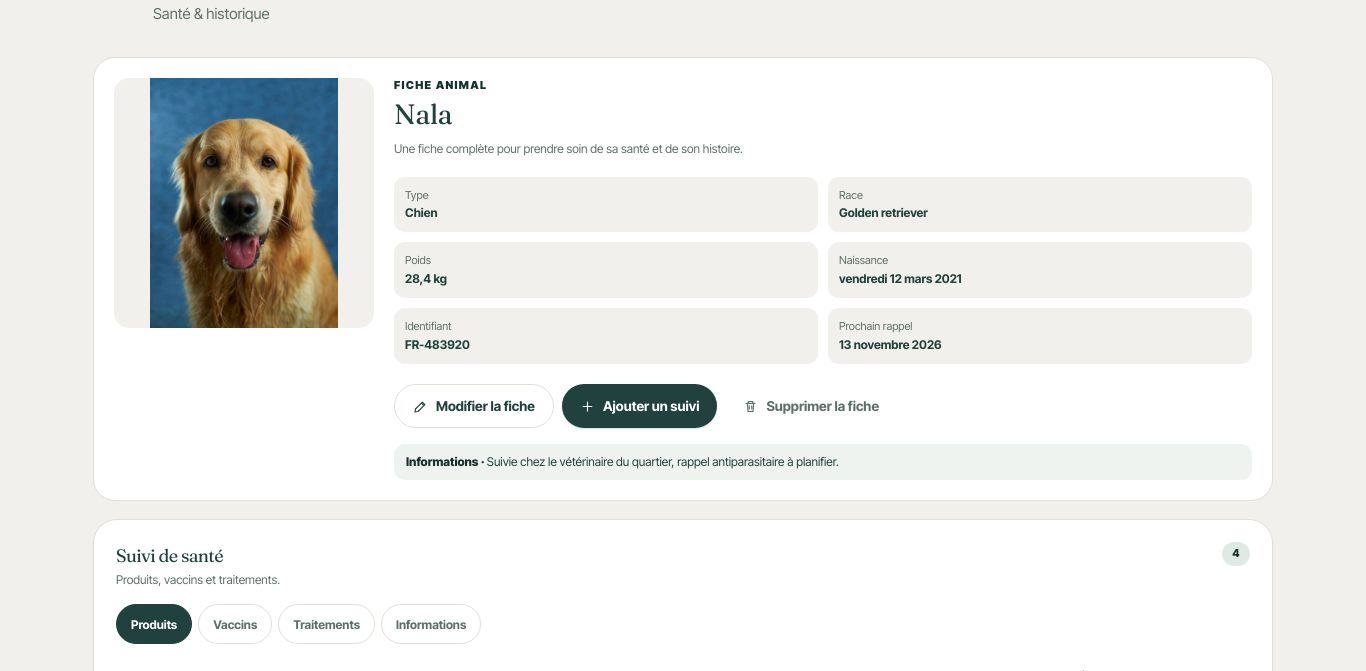
Test case: AnimauxPage › ajoute un suivi via le dialogue et le retrouve dans le carnet de santé
The width and height of the screenshot is (1366, 671).
Click the button "Ajouter un suivi": (640, 406) [562,384,718,428]
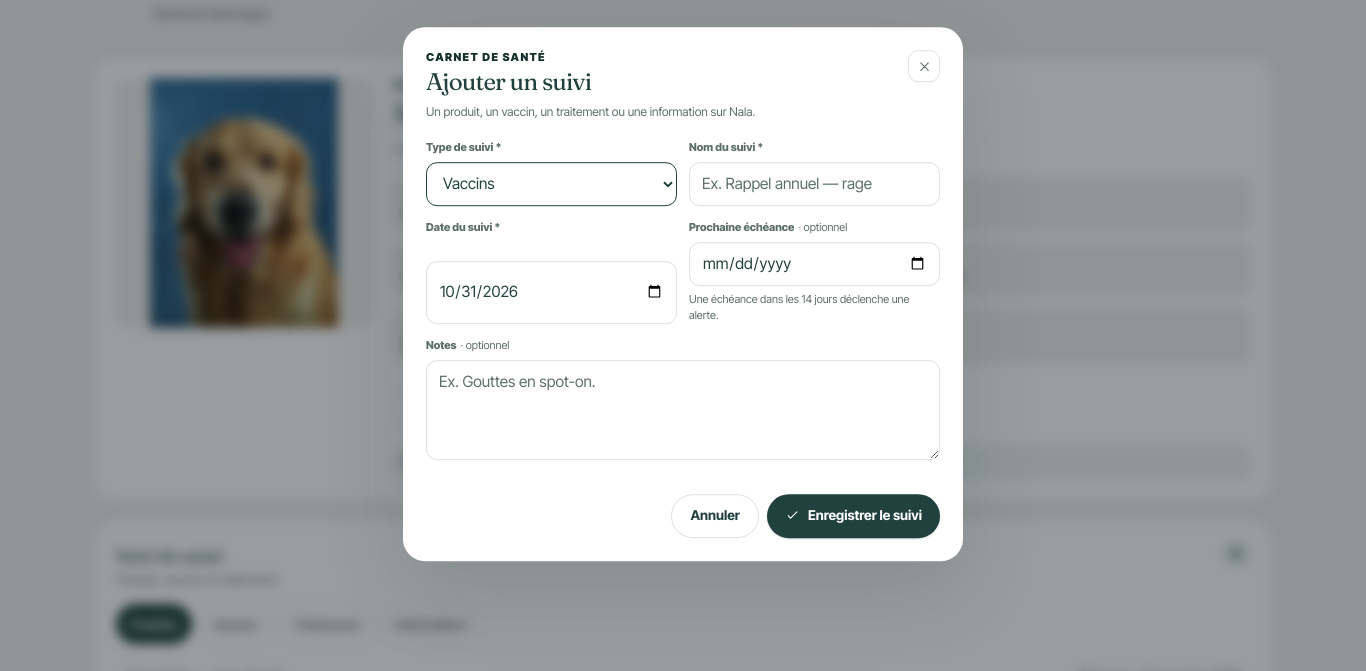
Select "Traitements" in the dropdown labelled "Type de suivi *": (552, 184) [426,162,677,206]
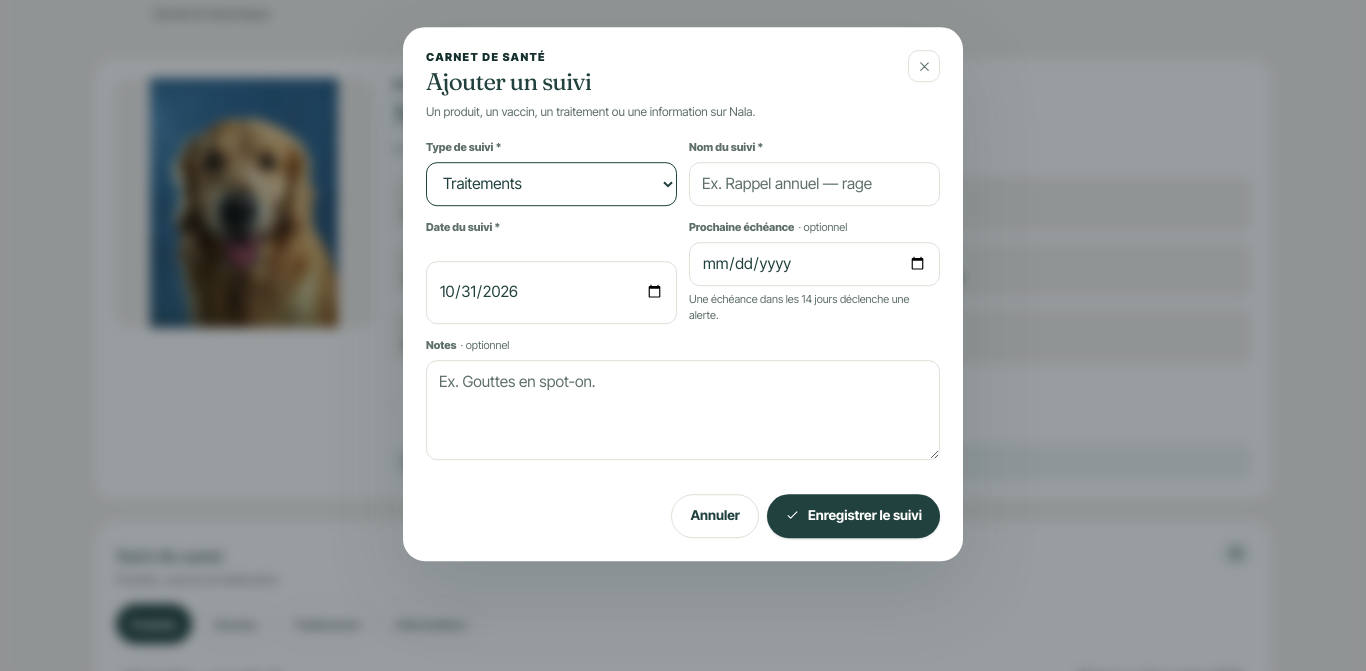
In the field labelled "Nom du suivi *": (814, 184) [689,162,940,206], type "Comprimé antiparasitaire"
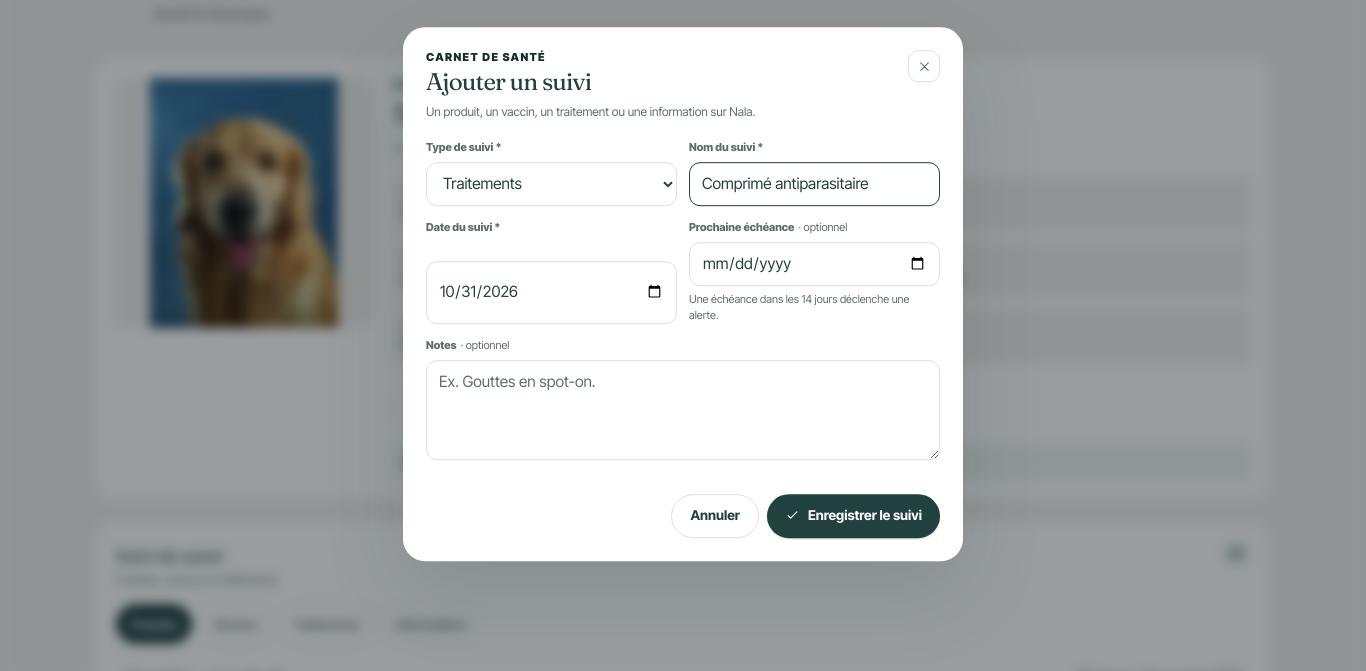
Click the button "Enregistrer le suivi": (853, 516) [767,494,940,538]
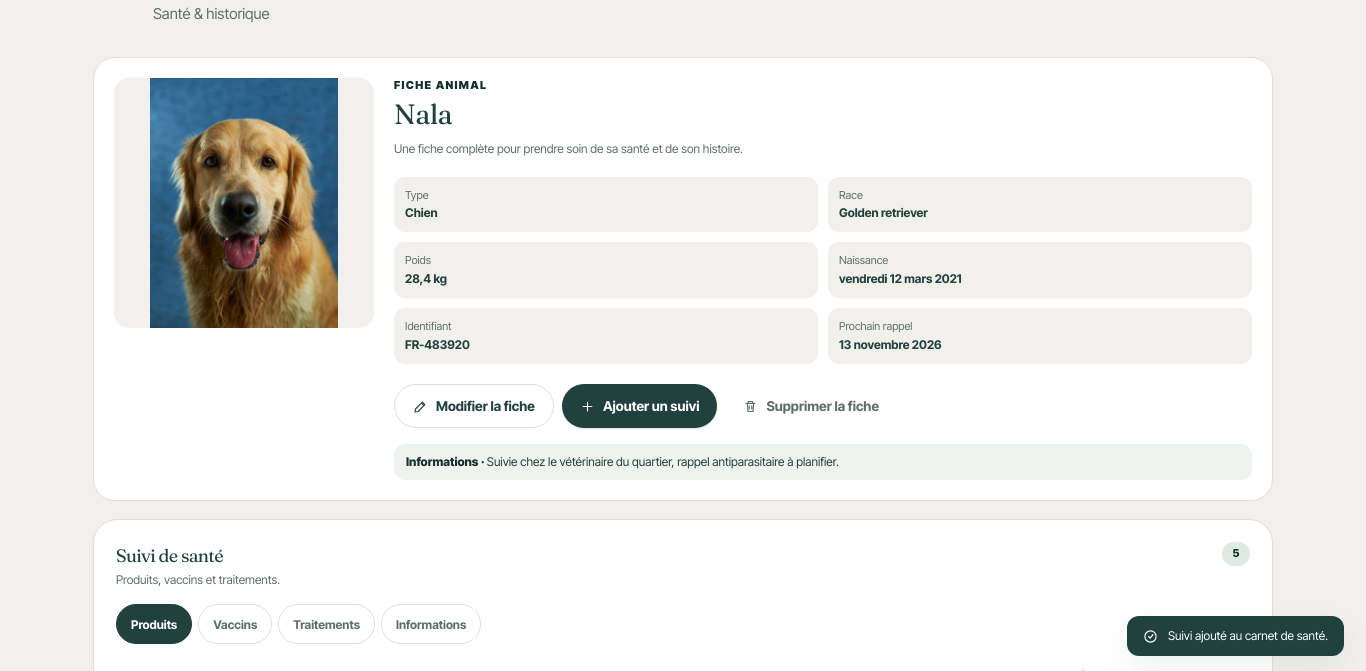
// Le suivi créé apparaît aussi dans l'onglet correspondant.
Click the tab "Traitements": (327, 624) [278,604,375,644]
(page scrolled)
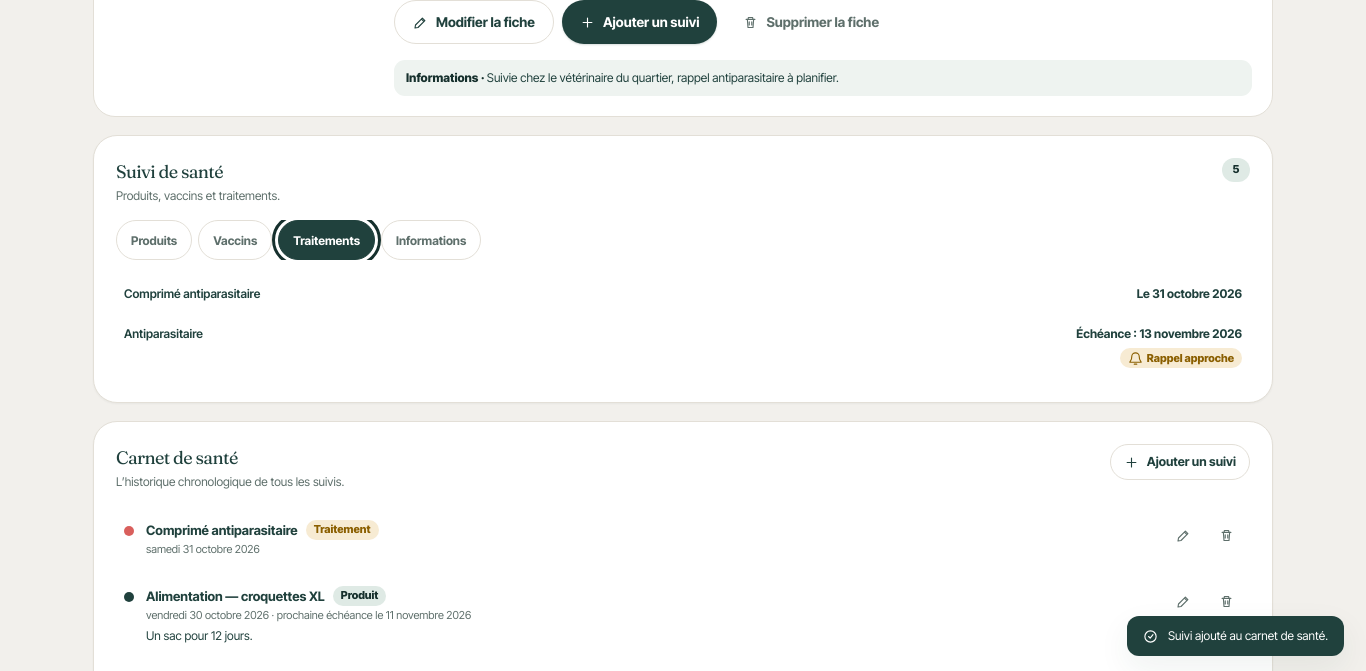
Check: the text "Comprimé antiparasitaire" in the row of "Le 31 octobre 2026" is shown, box [124,286,260,301]
